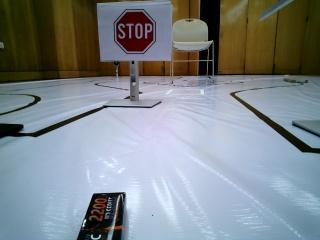stop: (100, 1, 168, 61)
